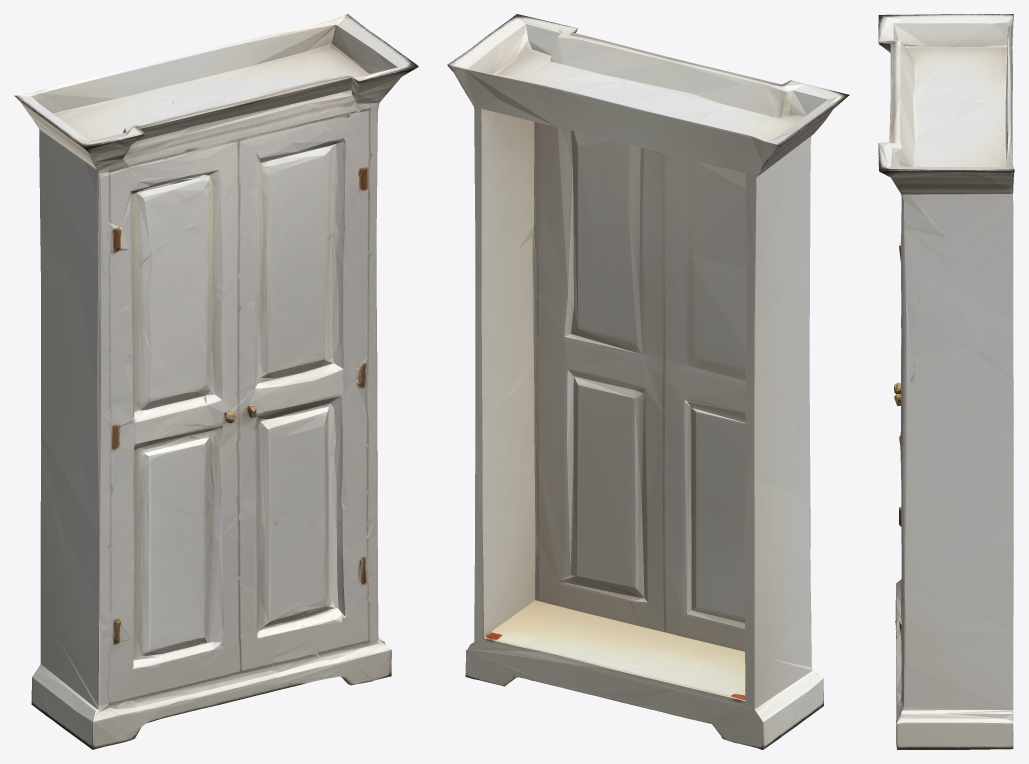
File: wardrobe.glb
3 views of the same model, side by side, from view 1: azimuth 30°, elevation 25°; view 2: azimuth 150°, elevation 25°; view 3: azimuth 270°, elevation 25° (orthographic). The views are drawn at different scales.
Visible parts, largest first — view 1: world; view 2: world; view 3: world.
Boxes of the visible parts, x1=… form: world: x1=14, y1=14, x2=418, y2=749; world: x1=447, y1=14, x2=849, y2=749; world: x1=878, y1=14, x2=1014, y2=749.
Size of the model in its own units: 0.571 by 1 by 0.2106.
1 material, 1 textured.
